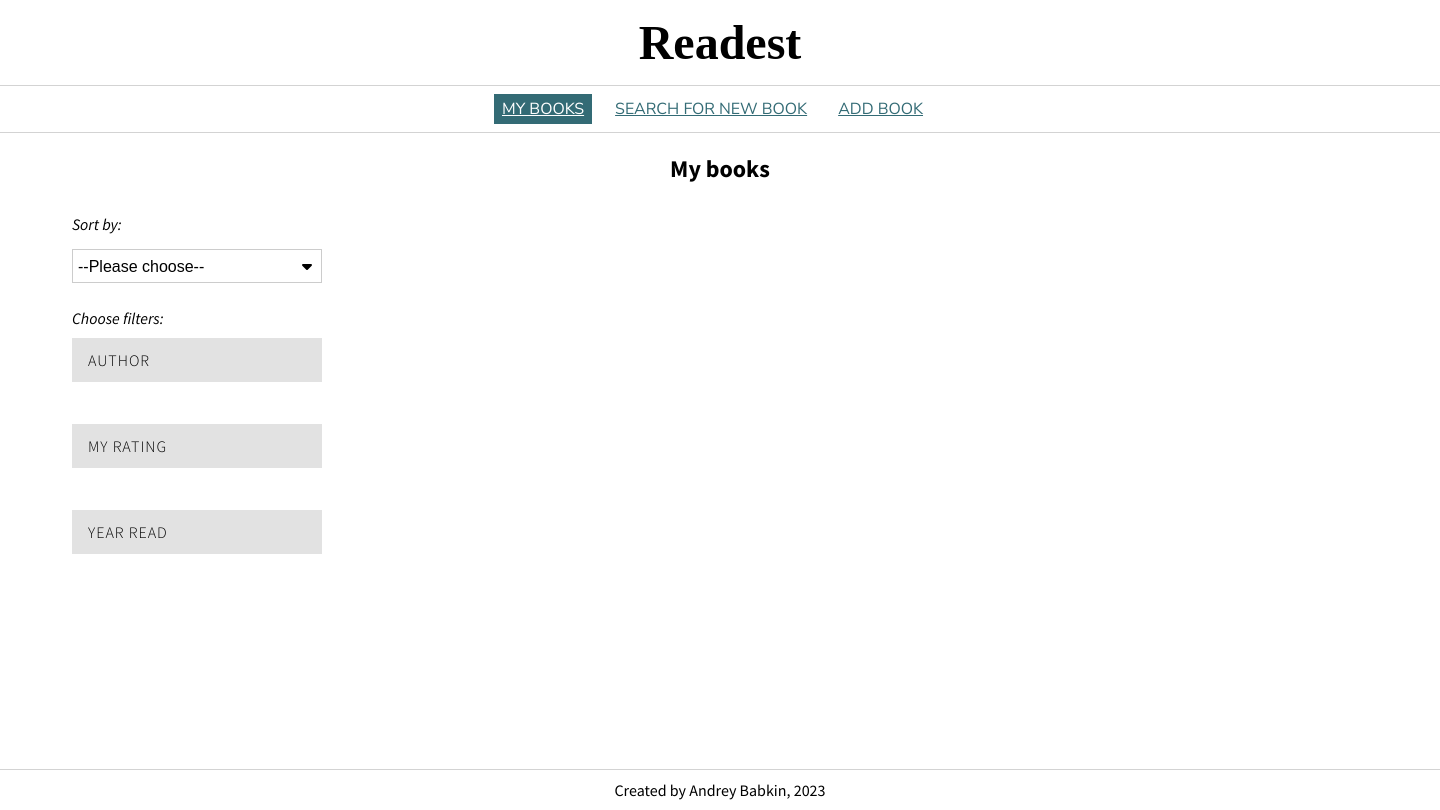
Test case: Search book functionality › search book route working
The image size is (1440, 810).
Click the link "Search for new Book".
click(711, 109)  # box left=607, top=94, right=815, bottom=124
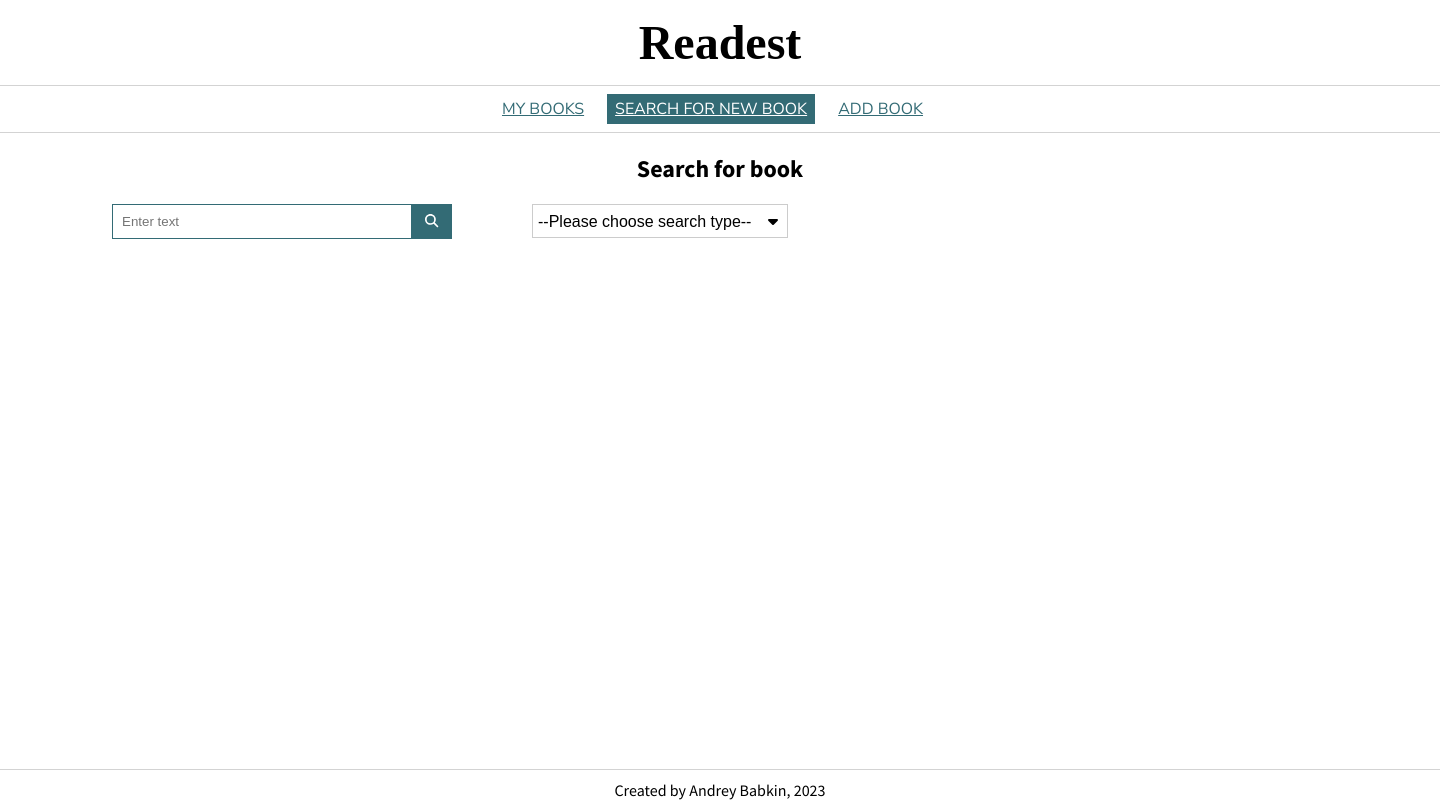
Expected: the heading "Search for book" is shown, left=637, top=153, right=803, bottom=184
Expected: the field named "search-input" is shown, left=112, top=204, right=412, bottom=239
Expected: the dropdown named "search-type" is shown, left=532, top=204, right=788, bottom=238
